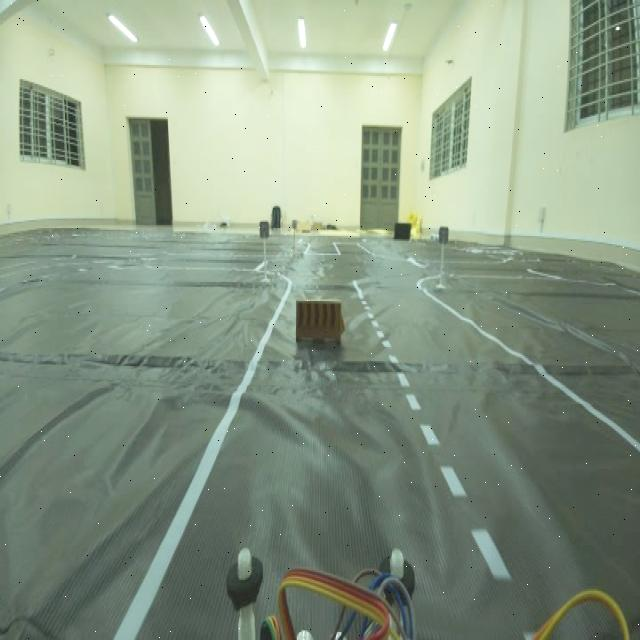roadblock: (290, 289, 350, 361)
